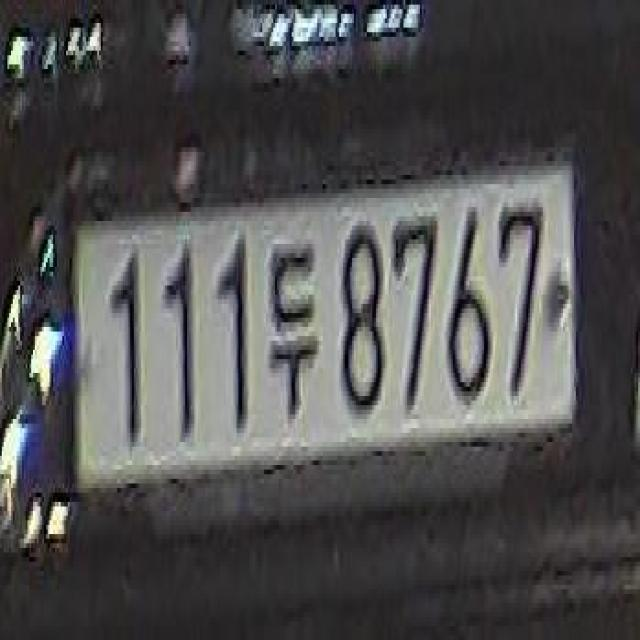illegal_plate: (48, 145, 585, 527)
